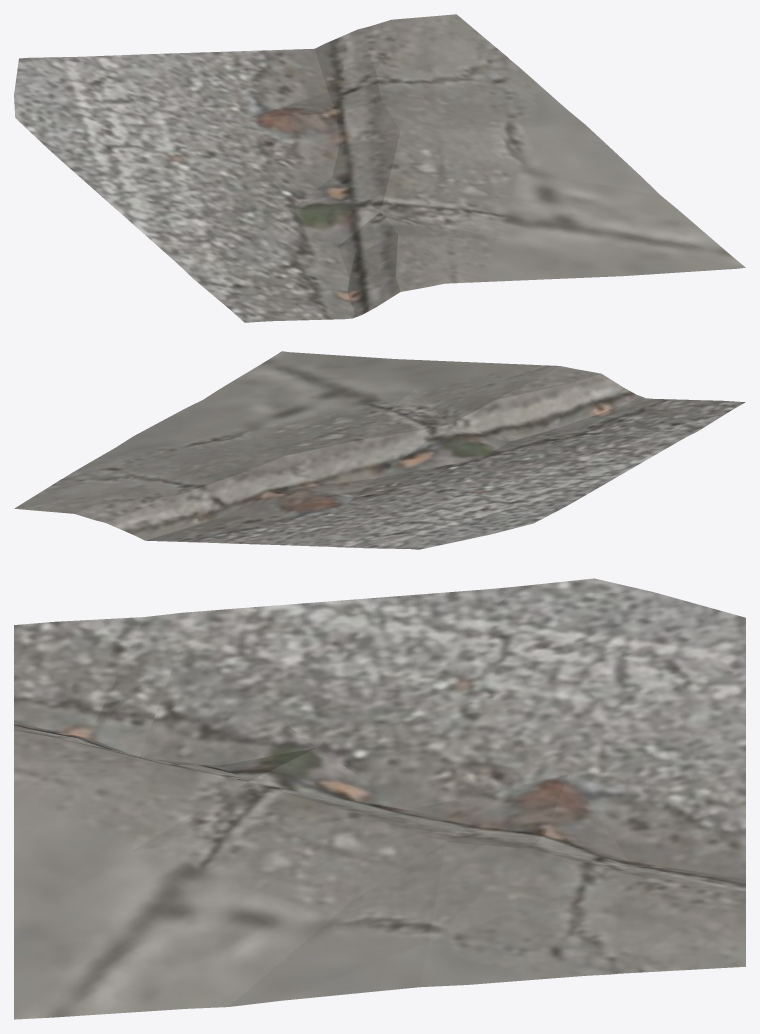
3 renders of one model, top to bottom at view 1: azimuth 30°, elevation 25°; view 2: azimuth 150°, elevation 25°; view 3: azimuth 270°, elevation 25°, orthographic. The views are drawn at different scales.
Size of the model in its own units: 0.8374 by 0.1663 by 0.8374.
3 materials, 3 textured.
